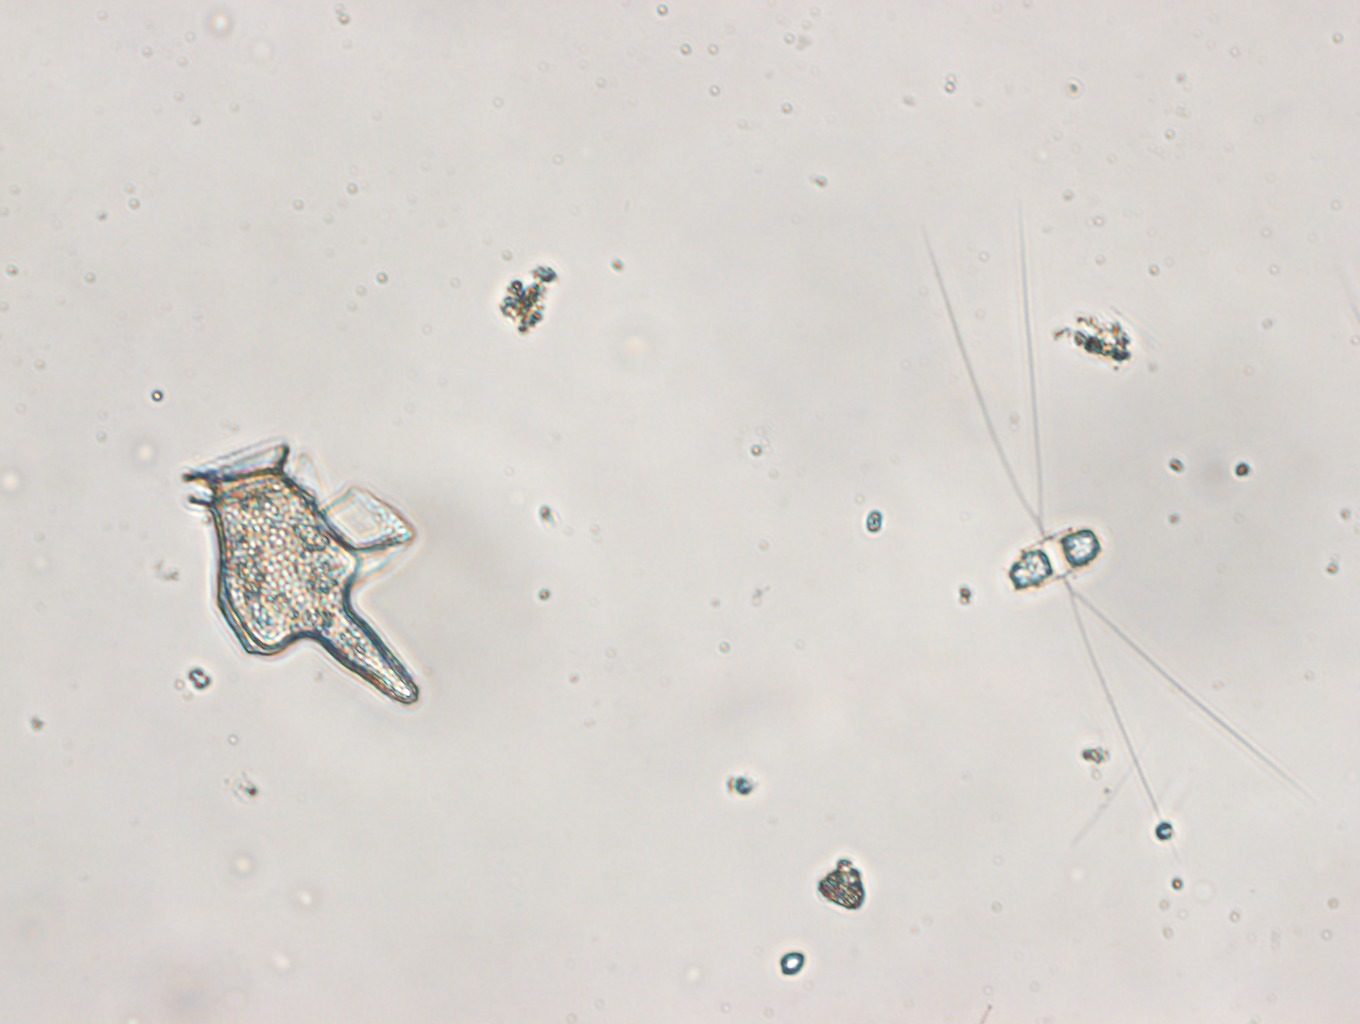chaetoceros: (916, 203, 1311, 828)
dinophysis caudata: (176, 441, 429, 710)
